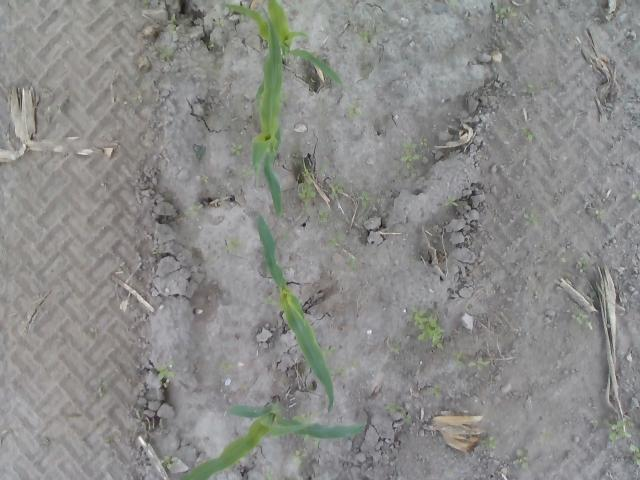Maize: (252, 212, 336, 412), (190, 396, 369, 480), (226, 0, 344, 88), (250, 4, 288, 218)
Weeds: (411, 308, 447, 350), (296, 164, 320, 205), (400, 136, 427, 164), (451, 351, 490, 369), (383, 403, 413, 425), (607, 420, 633, 440), (574, 310, 594, 330), (512, 448, 526, 470), (288, 449, 306, 466), (357, 191, 373, 210), (316, 206, 332, 224), (629, 444, 640, 469), (158, 46, 175, 62), (524, 213, 544, 226), (223, 238, 240, 253), (482, 434, 496, 452), (357, 31, 371, 49), (158, 366, 175, 380), (329, 180, 344, 195), (521, 126, 534, 142), (218, 358, 234, 370), (432, 384, 444, 400), (526, 80, 538, 96), (264, 296, 280, 308), (578, 255, 588, 274), (168, 14, 178, 33), (230, 142, 243, 156), (322, 347, 336, 360), (444, 196, 459, 208), (496, 6, 512, 17), (326, 235, 339, 248), (160, 456, 173, 469), (390, 341, 403, 353), (188, 206, 202, 217), (130, 95, 144, 105), (240, 167, 252, 177), (594, 208, 603, 220), (448, 0, 461, 8), (314, 438, 322, 450), (631, 190, 640, 200), (216, 18, 225, 28), (200, 174, 208, 184), (152, 249, 160, 257)
